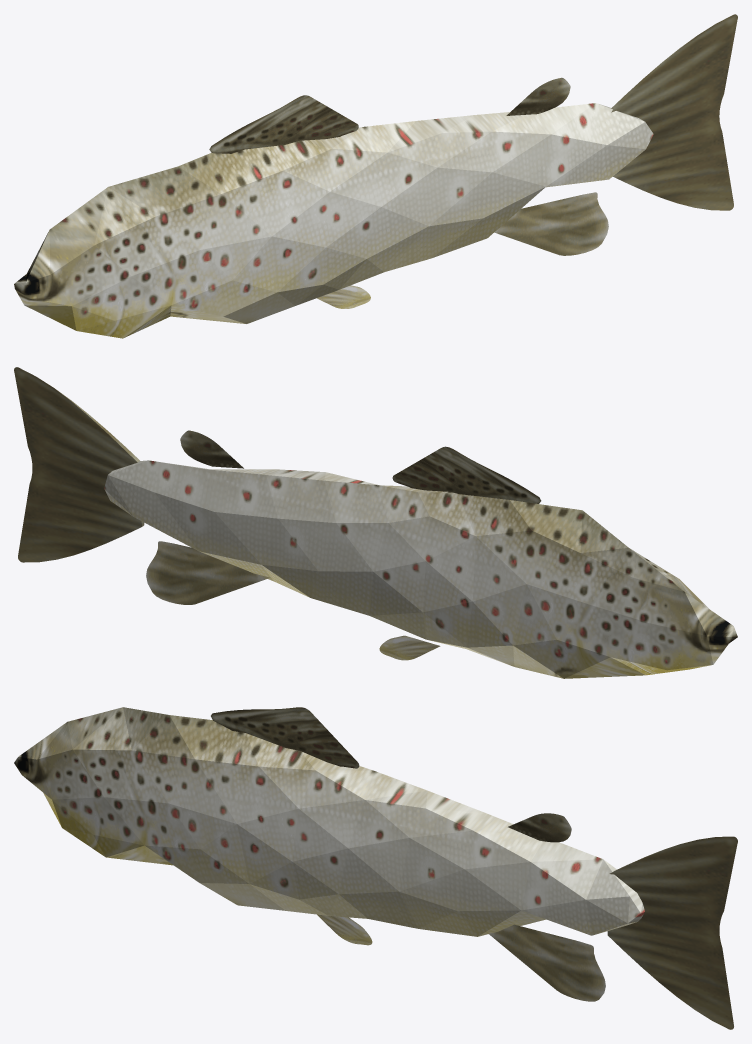
Rendered from brown trout.fbx.
The picture shows the model from 3 angles, top to bottom: view 1: azimuth 30°, elevation 25°; view 2: azimuth 150°, elevation 25°; view 3: azimuth 330°, elevation 25°; orthographic projection.
Visible parts, largest first — view 1: Line001, Line002, Line009, Line005, Line003, Line010; view 2: Line001, Line002, Line009, Line005, Line003, Line010; view 3: Line001, Line002, Line009, Line005, Line003, Line010.
Boxes of the visible parts, x1,y1,x2,y2 form: Line001: (14, 103, 653, 338); Line002: (611, 14, 737, 210); Line009: (494, 192, 608, 255); Line005: (209, 95, 358, 153); Line003: (506, 77, 570, 115); Line010: (317, 285, 370, 308); Line001: (104, 460, 737, 678); Line002: (14, 367, 144, 562); Line009: (146, 541, 270, 604); Line005: (392, 446, 541, 503); Line003: (180, 430, 243, 468); Line010: (379, 635, 440, 660); Line001: (14, 707, 644, 936); Line002: (607, 836, 737, 1029); Line009: (489, 924, 605, 1001); Line005: (211, 707, 359, 768); Line003: (508, 813, 571, 842); Line010: (317, 914, 372, 945).
Bounding box in the file's own units: 884 × 263 × 72.4.
Materials: 5 (5 with a texture image).
